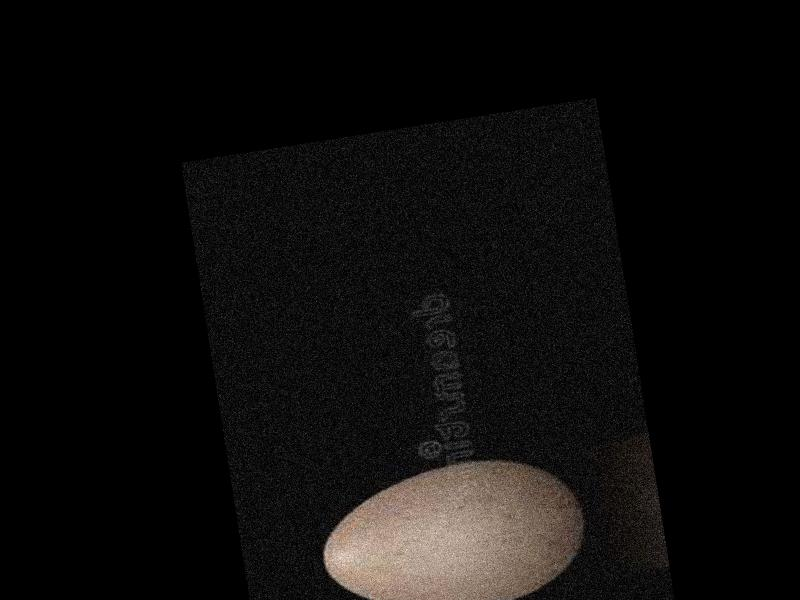Eggs: (311, 447, 595, 600)
